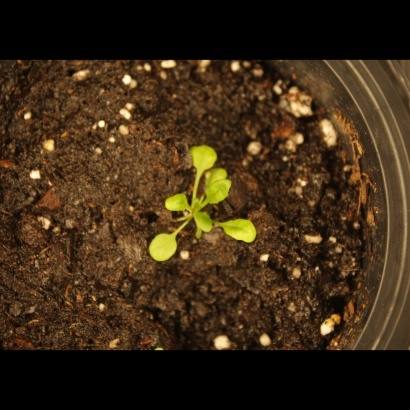leaf: (218, 213, 261, 246), (148, 227, 181, 266), (189, 139, 220, 173), (201, 179, 235, 204), (163, 191, 193, 216), (189, 208, 216, 235), (202, 166, 229, 189)
